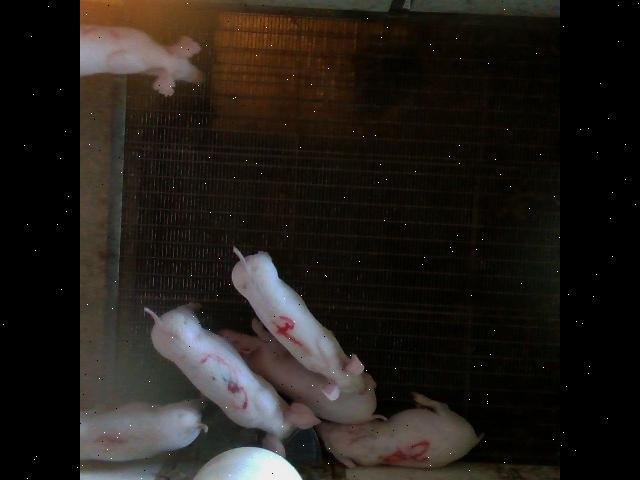pig-1: (82, 399, 209, 459)
pig-2: (82, 24, 204, 95)
pig-3: (147, 302, 320, 456)
pig-4: (231, 246, 362, 400)
pig-5: (316, 391, 482, 468)
